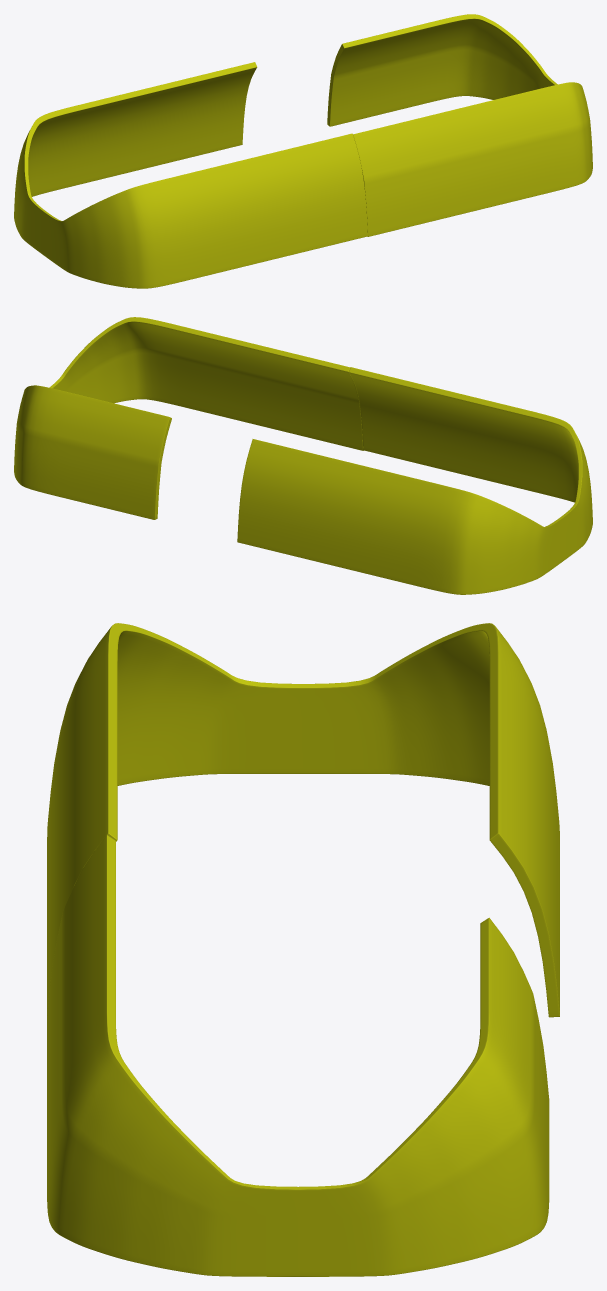
File: Capsule_Windowcover.fbx
The picture shows the model from 3 angles, top to bottom: view 1: azimuth 30°, elevation 25°; view 2: azimuth 150°, elevation 25°; view 3: azimuth 270°, elevation 25°; orthographic projection. The views are drawn at different scales.
Parts seen in each view (by area): view 1: Win_cover_fs001; view 2: Win_cover_fs001; view 3: Win_cover_fs001.
Boxes of the visible parts, x1=… form: Win_cover_fs001: x1=14, y1=14, x2=592, y2=288; Win_cover_fs001: x1=14, y1=317, x2=592, y2=594; Win_cover_fs001: x1=47, y1=623, x2=559, y2=1276.
Size of the model in its own units: 623 by 111 by 268.
